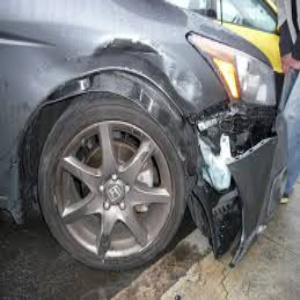bumper: (194, 105, 278, 264)
